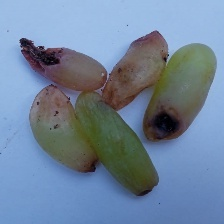grapes: (22, 46, 215, 195)
